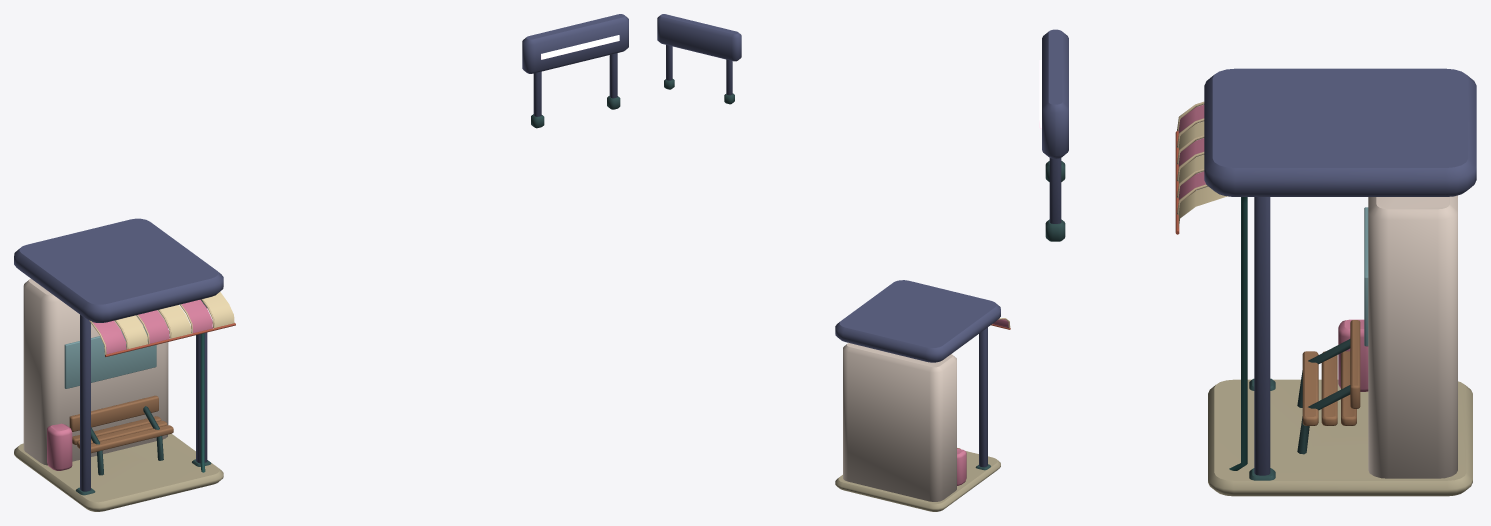
Rendered from japan_parking_4.glb.
3 renders of one model, left to right at view 1: azimuth 30°, elevation 25°; view 2: azimuth 150°, elevation 25°; view 3: azimuth 270°, elevation 25°, orthographic. The views are drawn at different scales.
Visible parts, largest first — view 1: JapanParking4; view 2: JapanParking4; view 3: JapanParking4.
Part boxes in pixels (bbox=[...]): JapanParking4: bbox=[14, 14, 628, 511]; JapanParking4: bbox=[657, 14, 1010, 511]; JapanParking4: bbox=[1039, 29, 1476, 496].
Bounding box in the file's own units: 8.33 × 6.83 × 4.09.
